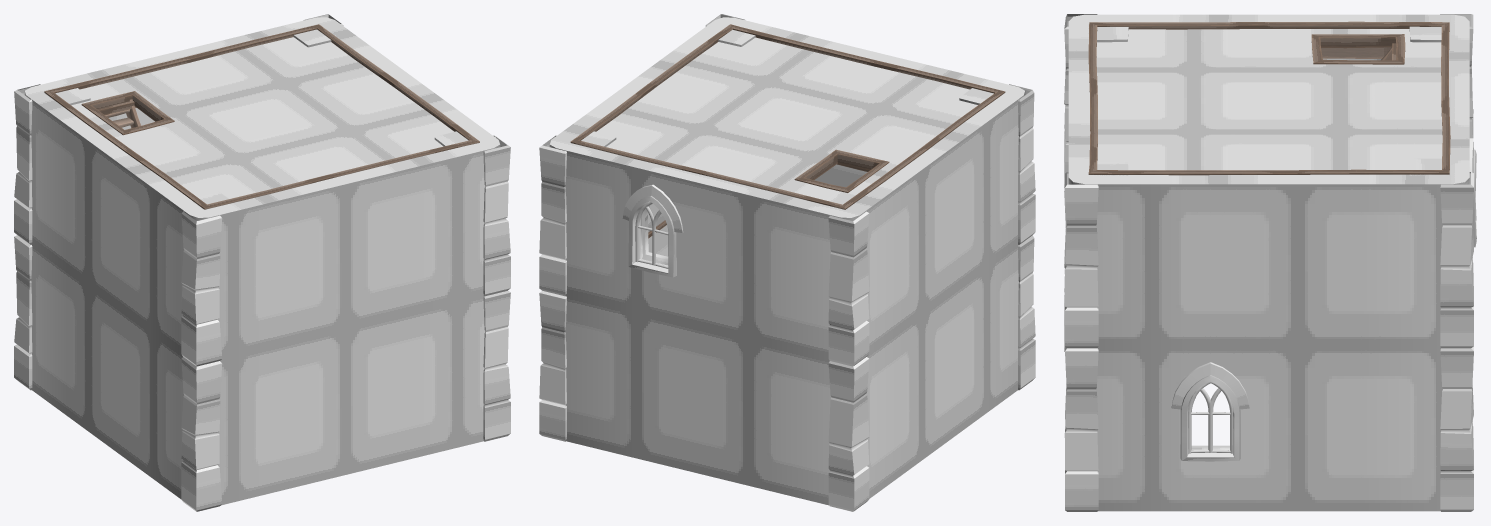
File: SM_TowerE_Mid_03.fbx
The picture shows the model from 3 angles, left to right: view 1: azimuth 30°, elevation 25°; view 2: azimuth 150°, elevation 25°; view 3: azimuth 270°, elevation 25°; orthographic projection. The views are drawn at different scales.
Parts seen in each view (by area): view 1: SM_TowerE_Mid_03_LOD0; view 2: SM_TowerE_Mid_03_LOD0; view 3: SM_TowerE_Mid_03_LOD0.
Boxes of the visible parts, x1,y1,x2,y2 form: SM_TowerE_Mid_03_LOD0: [14, 14, 510, 511]; SM_TowerE_Mid_03_LOD0: [539, 14, 1035, 511]; SM_TowerE_Mid_03_LOD0: [1064, 14, 1476, 511].
Bounding box in the file's own units: 1029 × 1030 × 915.
